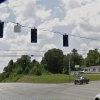Traffic light: (28, 21, 85, 54)
